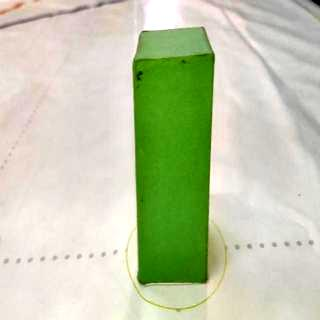greenbox: (132, 28, 215, 284)
